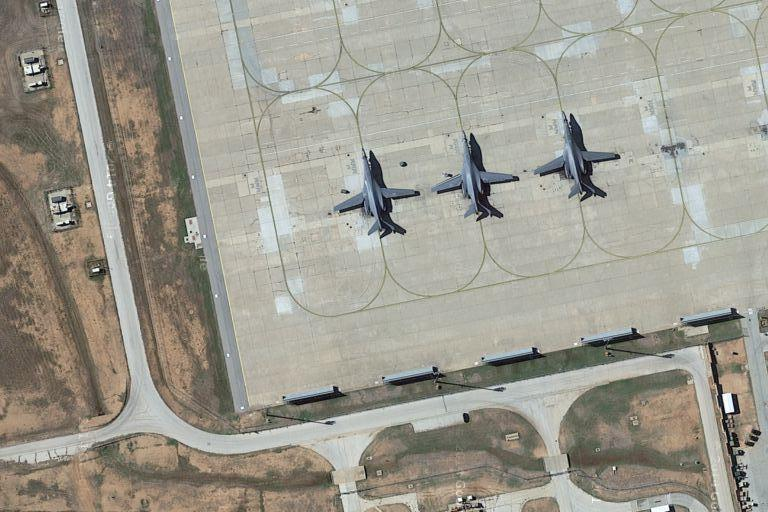B-1B: (427, 131, 522, 226), (332, 145, 423, 240), (536, 108, 624, 206)
